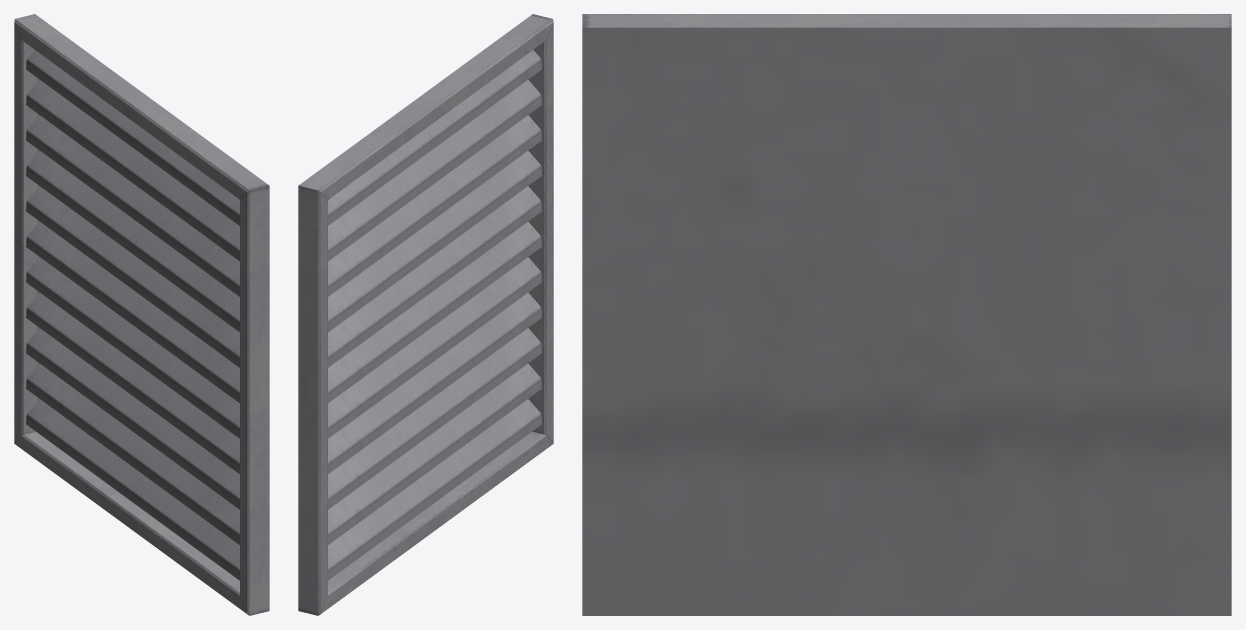
The model's file is air_vent_01.fbx.
The picture shows the model from 3 angles, left to right: view 1: azimuth 30°, elevation 25°; view 2: azimuth 150°, elevation 25°; view 3: azimuth 270°, elevation 25°; orthographic projection. The views are drawn at different scales.
Parts seen in each view (by area): view 1: Air_vent_01; view 2: Air_vent_01; view 3: Air_vent_01.
Boxes of the visible parts, box(x1,y1,x2,y2) form: Air_vent_01: box(14, 14, 269, 615); Air_vent_01: box(298, 14, 553, 615); Air_vent_01: box(582, 14, 1231, 615).
Bounding box in the file's own units: 0.00094 × 0.0175 × 0.0175.
Materials: 1 (1 with a texture image).
